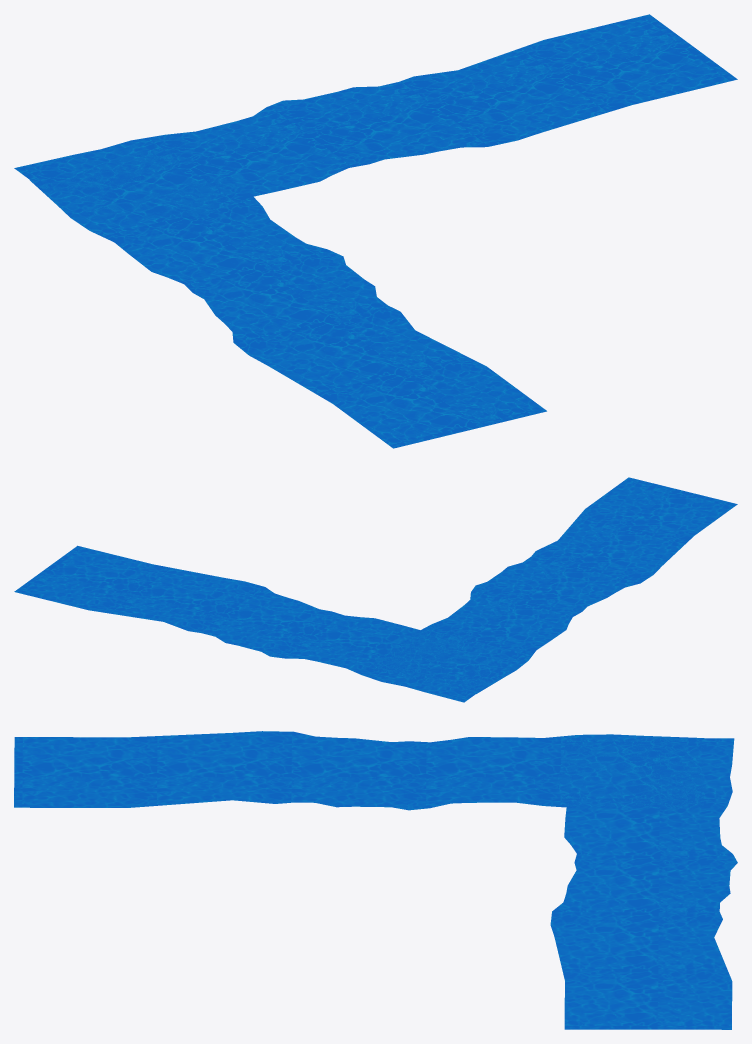
3 views of the same model, one above another, from view 1: azimuth 30°, elevation 25°; view 2: azimuth 150°, elevation 25°; view 3: azimuth 270°, elevation 25° (orthographic). The views are drawn at different scales.
Parts seen in each view (by area): view 1: sub33; view 2: sub33; view 3: sub33.
Boxes of the visible parts, x1=… form: sub33: x1=14, y1=14, x2=737, y2=448; sub33: x1=14, y1=477, x2=737, y2=702; sub33: x1=14, y1=731, x2=737, y2=1029.
Size of the model in its own units: 5.16 by 0 by 5.29.
Materials: 2 (2 with a texture image).
